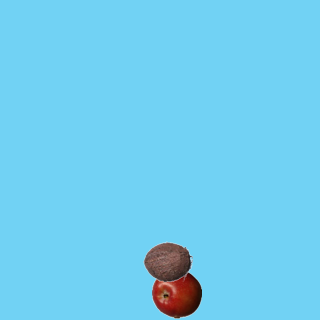Apple Braeburn: (151, 268, 201, 318)
Cocos: (142, 236, 192, 286)
